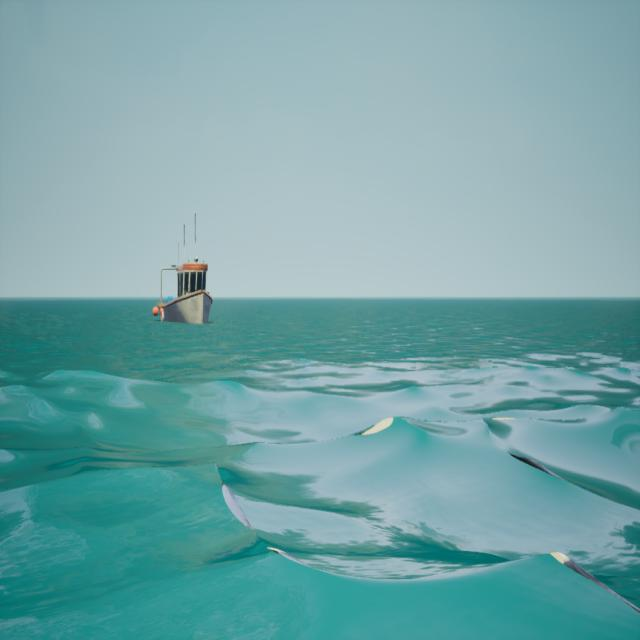ship: (148, 200, 223, 340)
